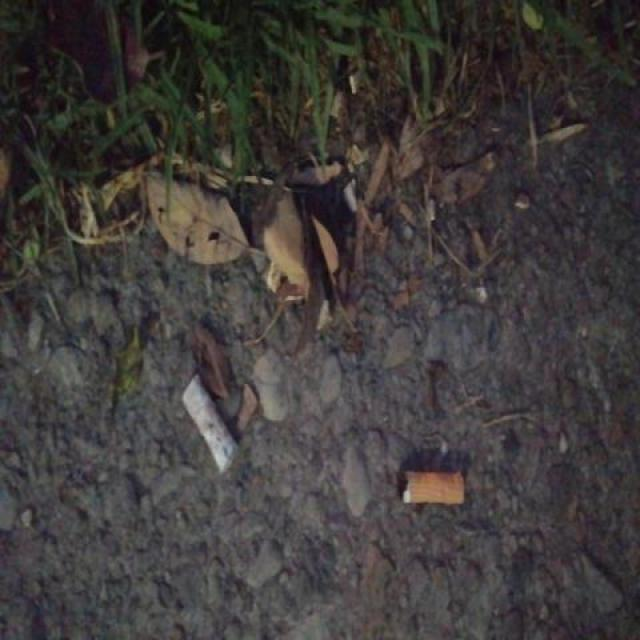non-organic waste: (176, 369, 243, 478), (394, 464, 470, 512)
